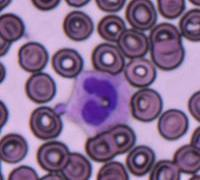N: (68, 70, 132, 135)
